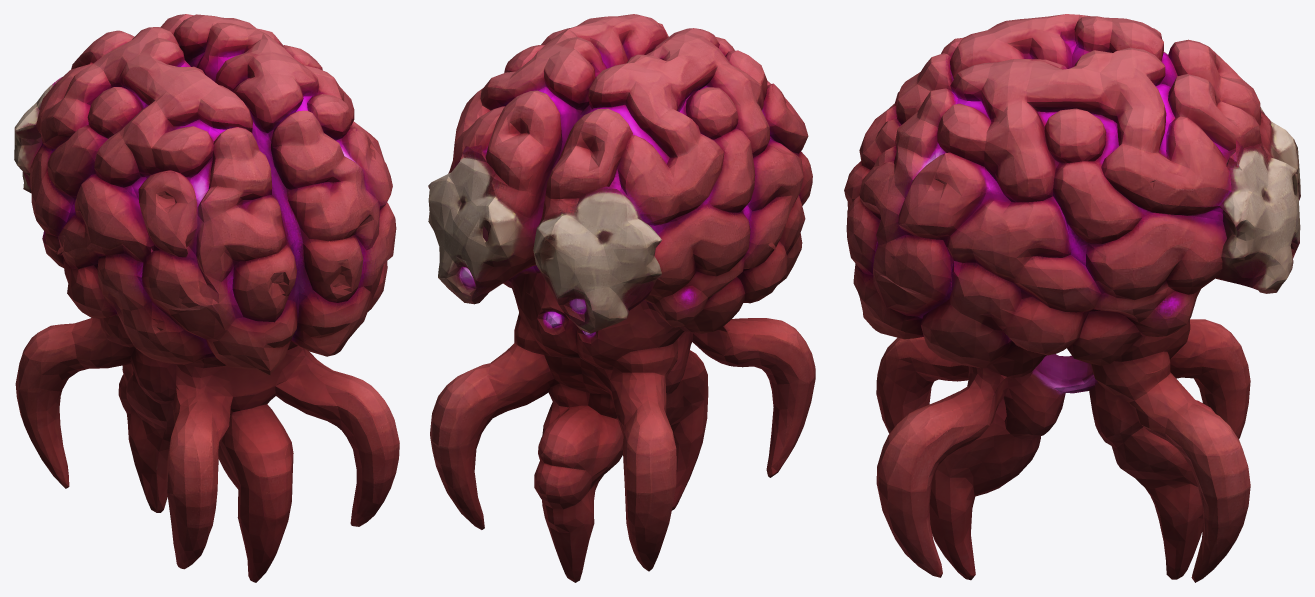
File: trellis-1.glb
The picture shows the model from 3 angles, left to right: view 1: azimuth 30°, elevation 25°; view 2: azimuth 150°, elevation 25°; view 3: azimuth 270°, elevation 25°; orthographic projection. The views are drawn at different scales.
Visible parts, largest first — view 1: world; view 2: world; view 3: world.
Part boxes in pixels (<box>): world: <box>14,14,399,582</box>; world: <box>428,14,815,582</box>; world: <box>844,14,1300,582</box>.
Bounding box in the file's own units: 0.5318 × 0.8534 × 0.6481.
Materials: 1 (1 with a texture image).
